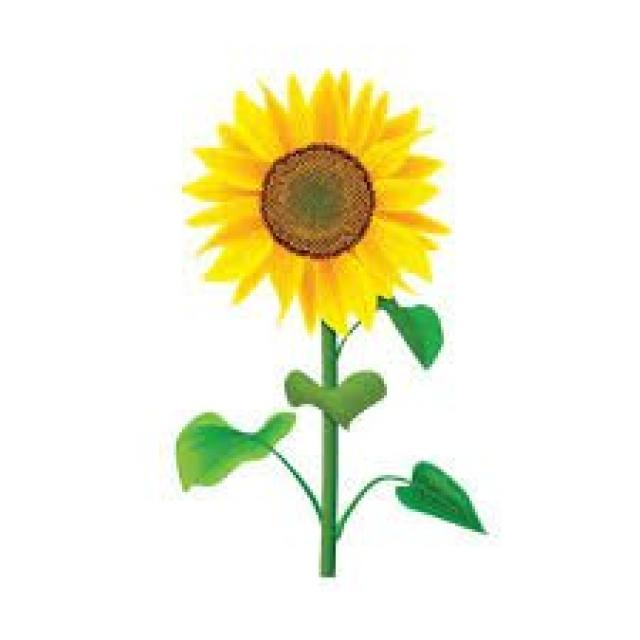sunflower: (180, 60, 450, 341)
